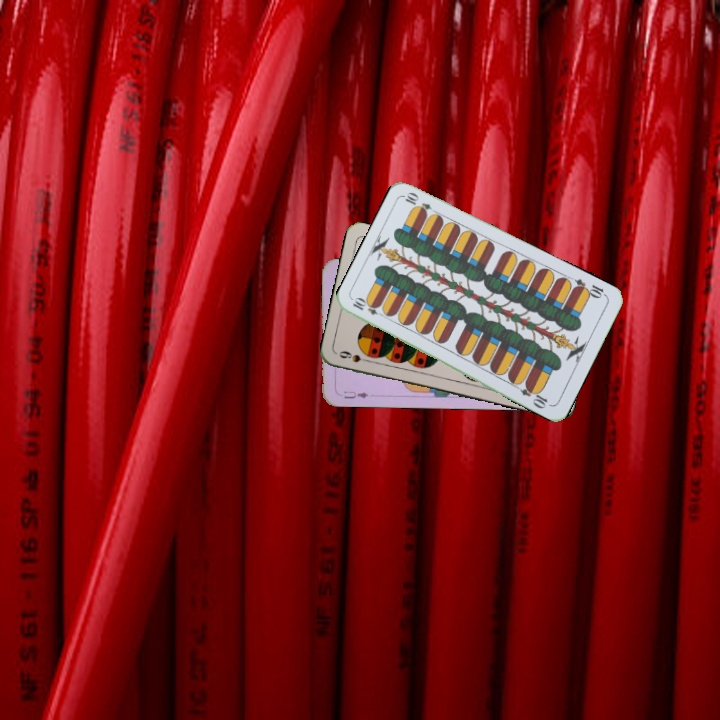E10: (569, 275, 609, 301), (349, 295, 388, 320)
EU: (340, 387, 371, 401)
S9: (336, 346, 375, 365)
